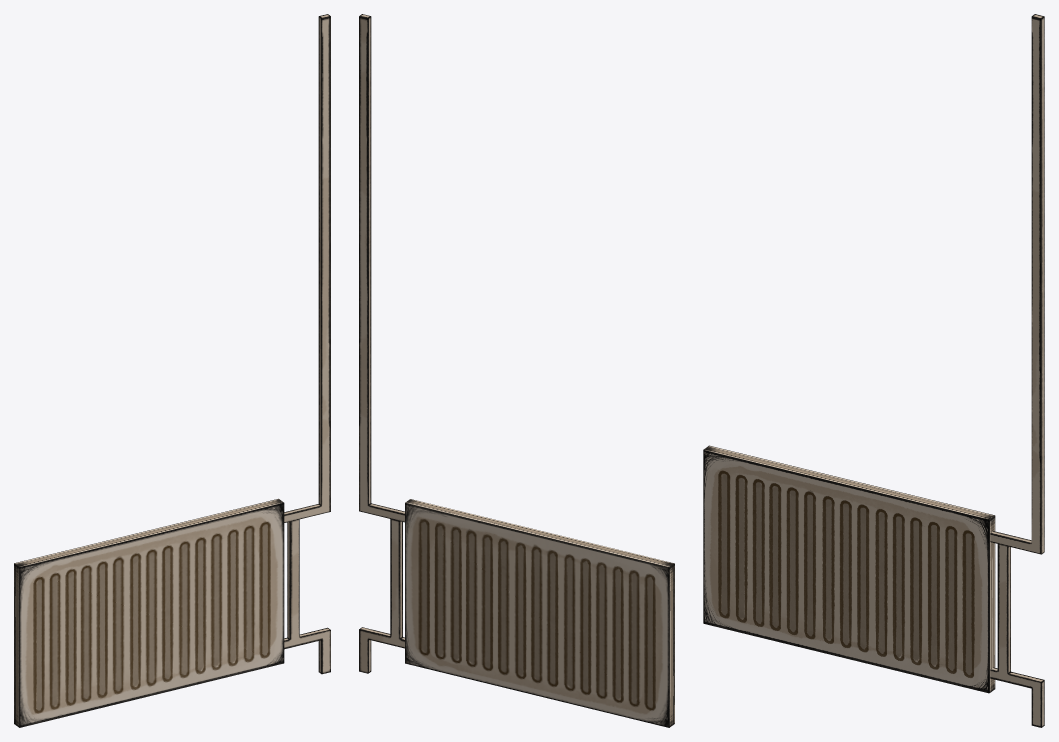
File: radiator.fbx
3 views of the same model, side by side, from view 1: azimuth 30°, elevation 25°; view 2: azimuth 150°, elevation 25°; view 3: azimuth 330°, elevation 25° (orthographic). The views are drawn at different scales.
Visible parts, largest first — view 1: radiator, radiator.005; view 2: radiator, radiator.005; view 3: radiator, radiator.005.
Boxes of the visible parts, x1,y1,x2,y2 form: radiator: [14, 498, 284, 727]; radiator.005: [284, 14, 330, 674]; radiator: [405, 499, 674, 727]; radiator.005: [359, 14, 404, 673]; radiator: [703, 445, 995, 693]; radiator.005: [990, 14, 1044, 727].
Bounding box in the file's own units: 1.79 × 3.6 × 0.0549.
Materials: 2 (2 with a texture image).
